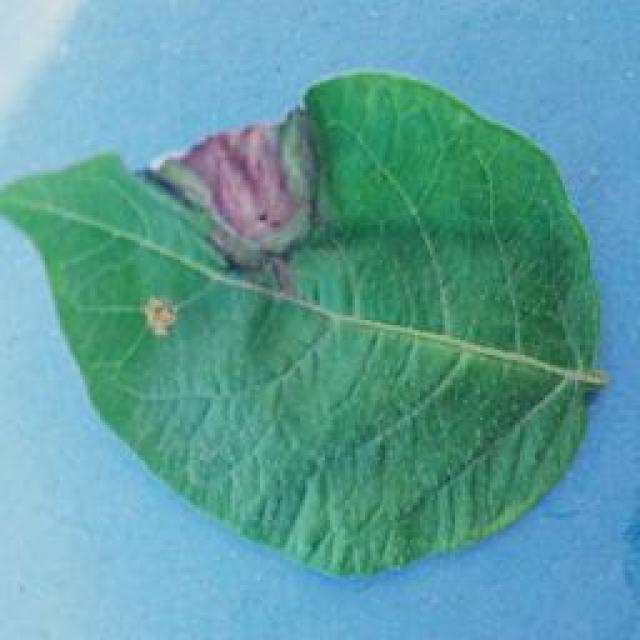Potato_Late_Blight: (0, 76, 603, 581)
